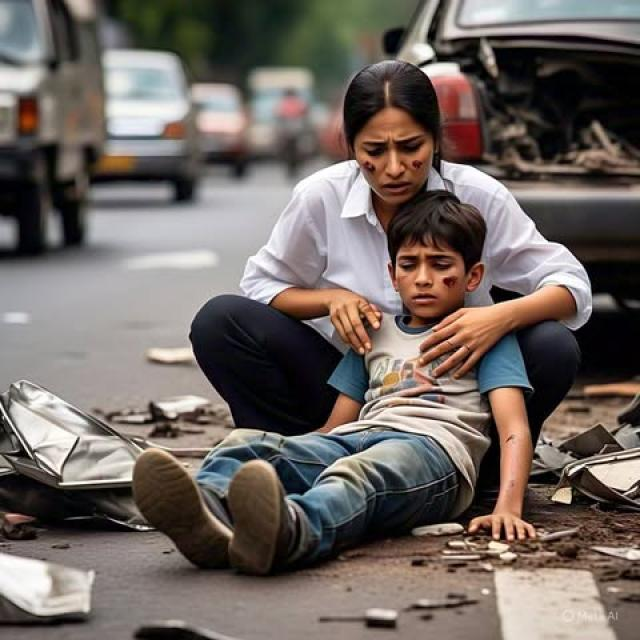injury: (343, 60, 443, 208), (388, 191, 486, 324), (359, 156, 376, 173), (393, 273, 404, 295), (443, 277, 456, 291), (410, 157, 425, 168), (503, 435, 515, 444)
